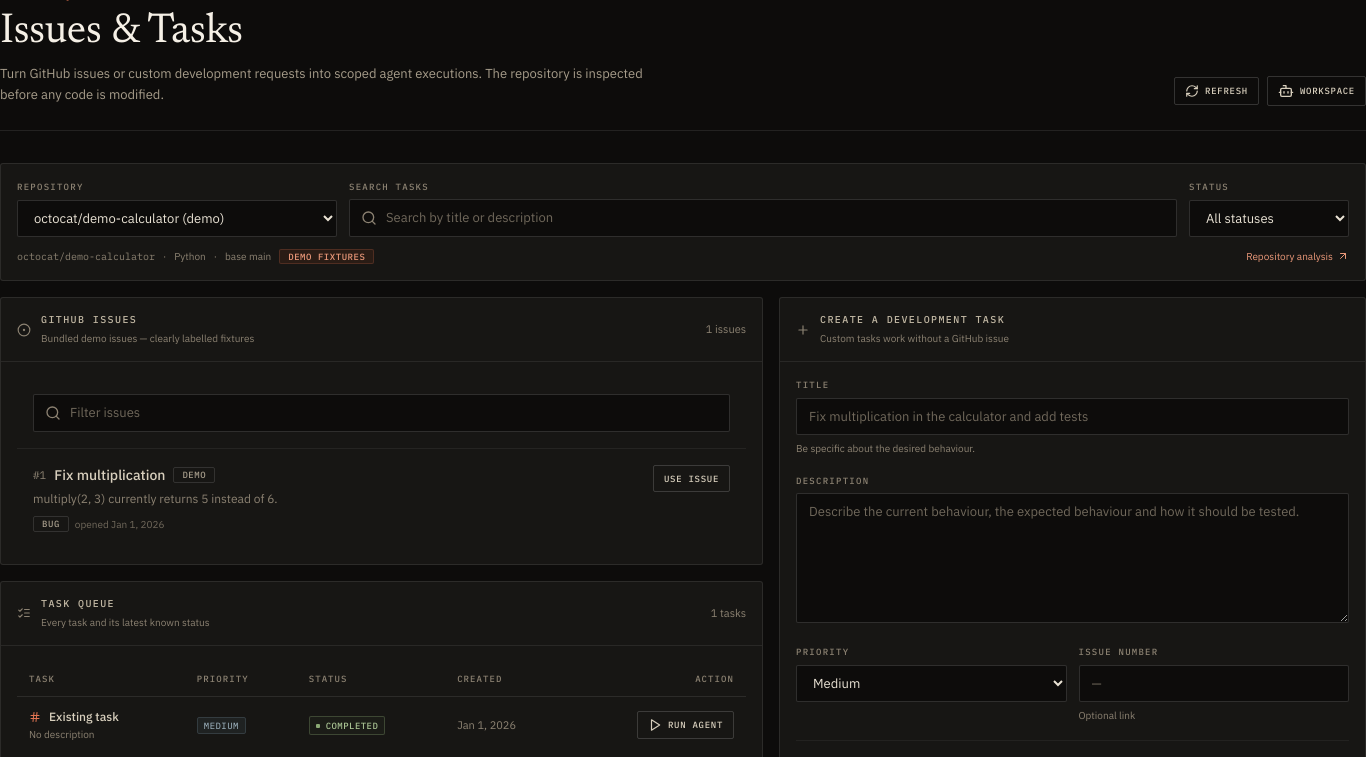
Test: Tasks › rejects a title that is too short
Check: the text "Existing task" is shown, box top-left (49, 709), bottom-right (119, 725)
In the field labelled "Title": [1072, 417] box top-left (796, 398), bottom-right (1349, 435), type "abc"
(page scrolled)
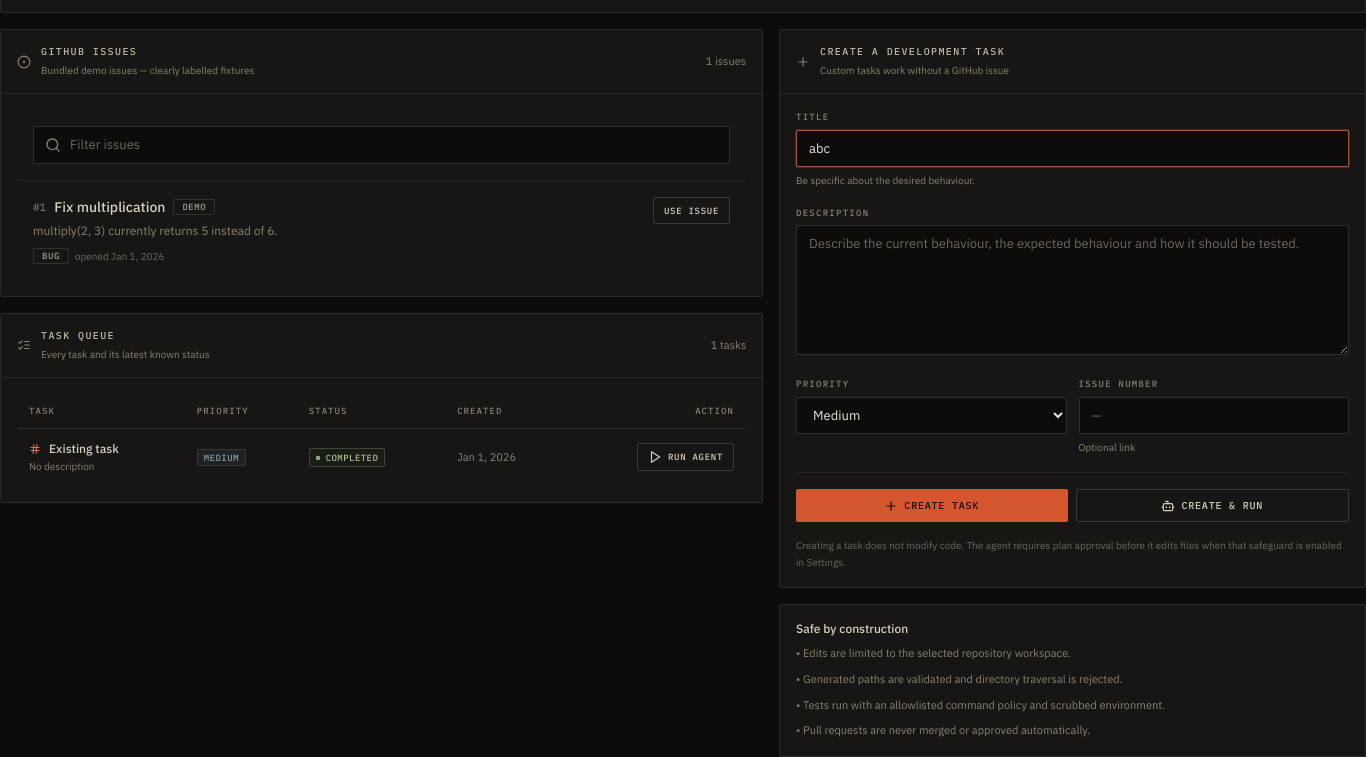
Click the button "Create task": [932, 506] box top-left (796, 489), bottom-right (1068, 522)
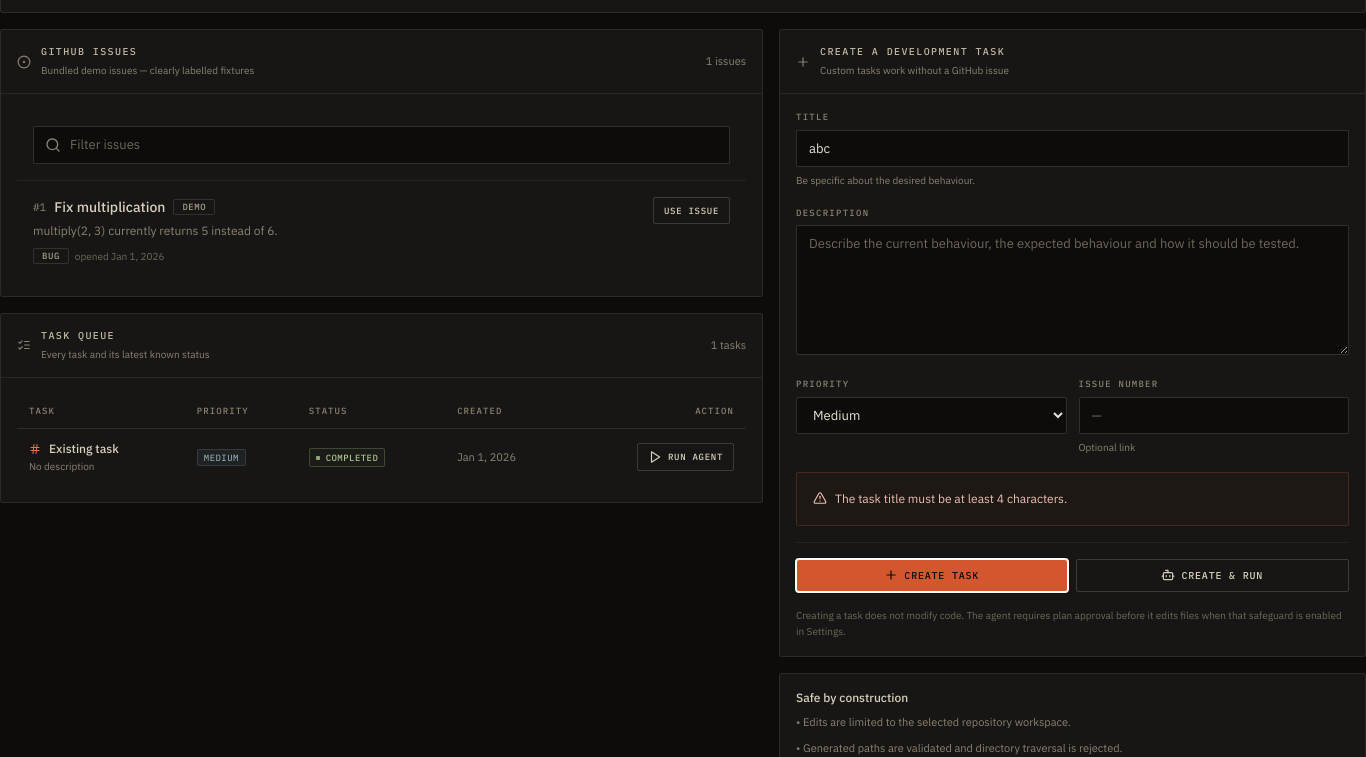
Check: the text "The task title must be at least 4 characters." is shown, box top-left (835, 489), bottom-right (1067, 509)
